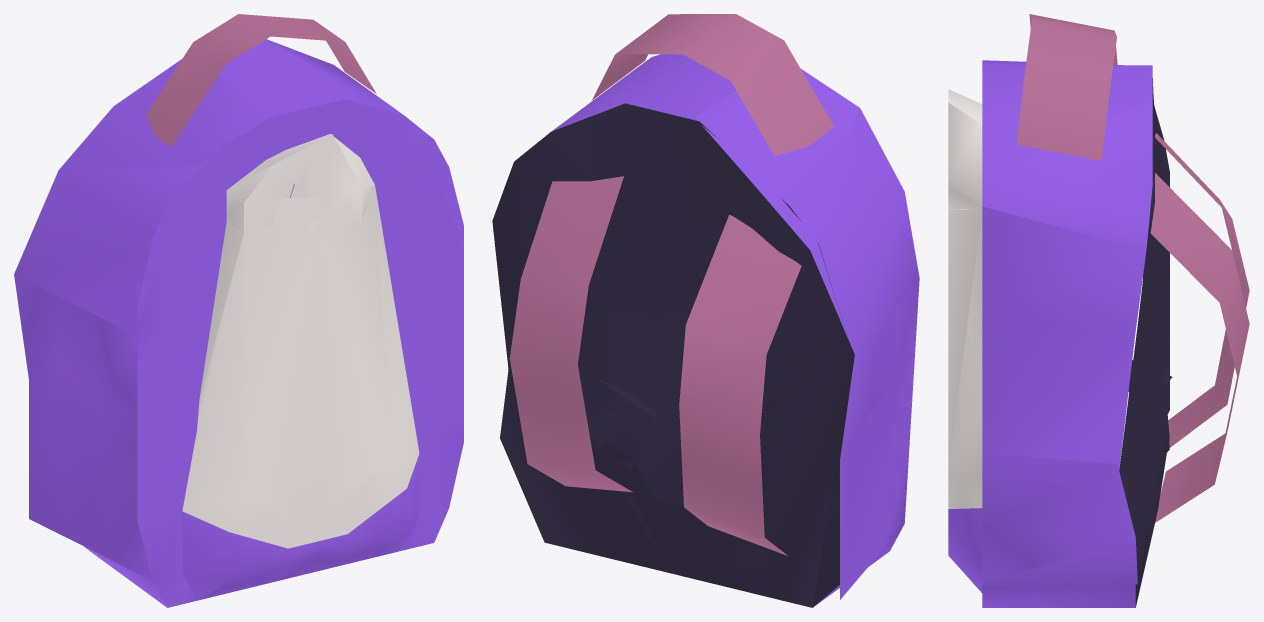
File: backpack_01.gltf
3 views of the same model, side by side, from view 1: azimuth 30°, elevation 25°; view 2: azimuth 150°, elevation 25°; view 3: azimuth 270°, elevation 25° (orthographic).
Bounding box in the file's own units: 12.72 × 16.83 × 8.84.
1 material, 1 textured.
